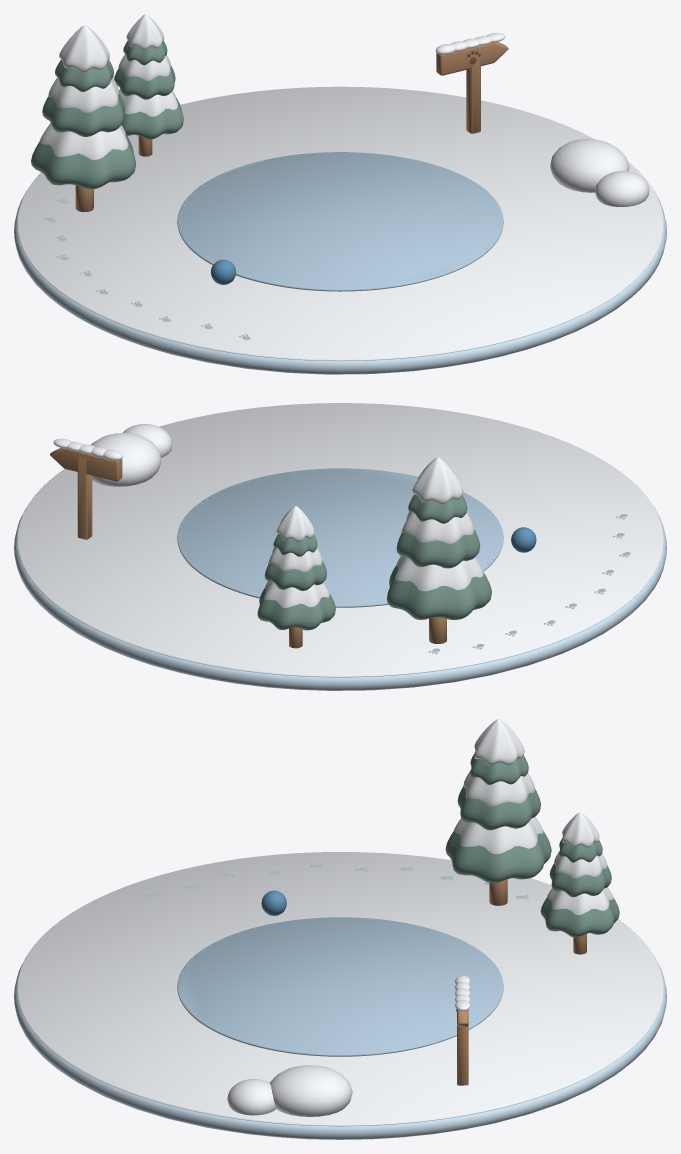
File: snow.glb
3 views of the same model, one above another, from view 1: azimuth 30°, elevation 25°; view 2: azimuth 150°, elevation 25°; view 3: azimuth 270°, elevation 25° (orthographic).
Visible parts, largest first — view 1: Snow_snow.001, Snow_rug.001, Snow_pine.001, Snow_edge.001, Snow_wood.001, Snow_ball.001; view 2: Snow_snow.001, Snow_rug.001, Snow_pine.001, Snow_edge.001, Snow_wood.001, Snow_ball.001, Snow_paw.001; view 3: Snow_snow.001, Snow_rug.001, Snow_pine.001, Snow_edge.001, Snow_wood.001.
Part boxes in pixels (x1=…): Snow_snow.001: x1=17, y1=14, x2=663, y2=360; Snow_rug.001: x1=177, y1=152, x2=503, y2=291; Snow_pine.001: x1=31, y1=40, x2=183, y2=189; Snow_edge.001: x1=14, y1=191, x2=666, y2=374; Snow_wood.001: x1=75, y1=42, x2=508, y2=211; Snow_ball.001: x1=210, y1=259, x2=236, y2=284; Snow_snow.001: x1=17, y1=403, x2=663, y2=677; Snow_rug.001: x1=177, y1=468, x2=503, y2=607; Snow_pine.001: x1=257, y1=494, x2=491, y2=630; Snow_edge.001: x1=14, y1=507, x2=666, y2=690; Snow_wood.001: x1=50, y1=448, x2=446, y2=648; Snow_ball.001: x1=511, y1=527, x2=536, y2=552; Snow_paw.001: x1=428, y1=514, x2=630, y2=654; Snow_snow.001: x1=17, y1=719, x2=663, y2=1126; Snow_rug.001: x1=177, y1=917, x2=503, y2=1056; Snow_pine.001: x1=445, y1=753, x2=619, y2=937; Snow_edge.001: x1=14, y1=956, x2=666, y2=1139; Snow_wood.001: x1=457, y1=879, x2=586, y2=1085.
Size of the model in its own units: 6.4 by 2.15 by 6.4.
